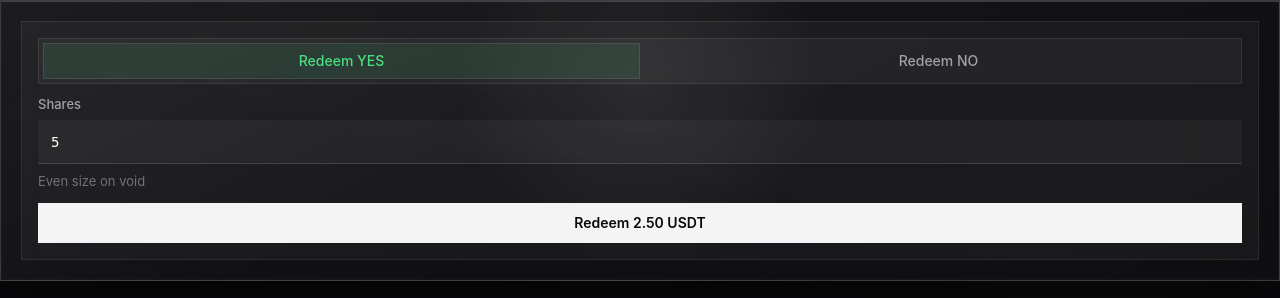
Test case: SettleDesk 作废半价退款（VoidClaim） › 切换 YES/NO 时将金额重置为新一侧的平额
Check: the button "Redeem 2.50 USDT" is enabled, box x1=38 y1=203 x2=1242 y2=243
Replace the text in the field with "4" at (640, 142), box x1=38 y1=120 x2=1242 y2=164
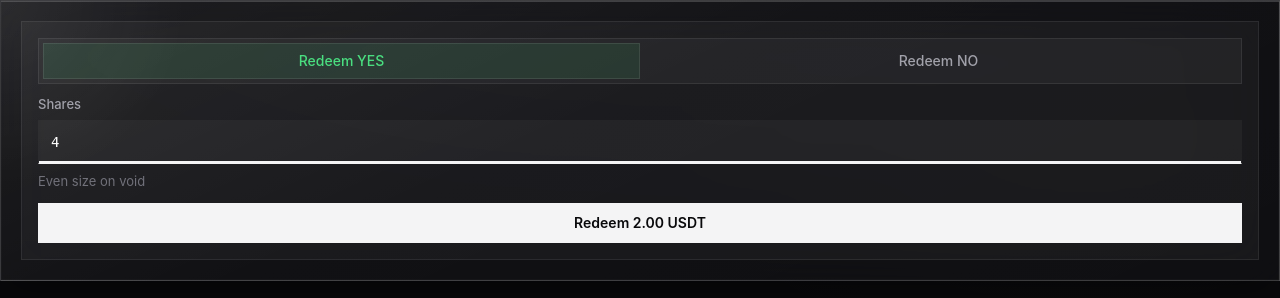
Click the button "Redeem YES" at (342, 61), box x1=43 y1=43 x2=640 y2=79
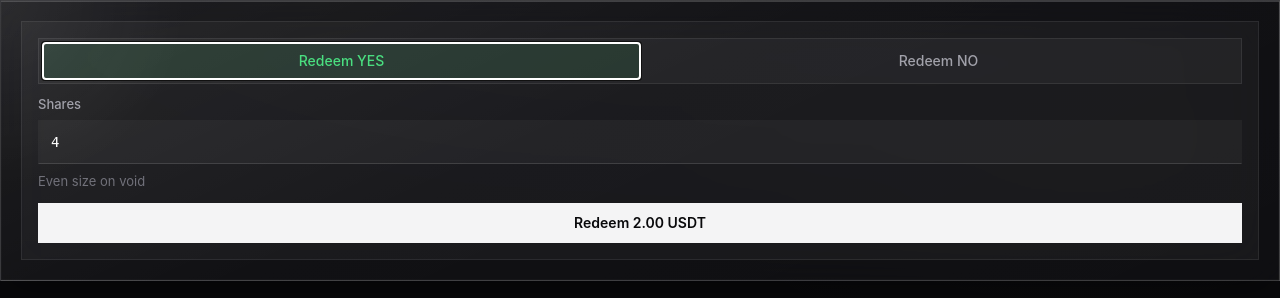
Click the button "Redeem NO" at (938, 61), box x1=640 y1=43 x2=1237 y2=79
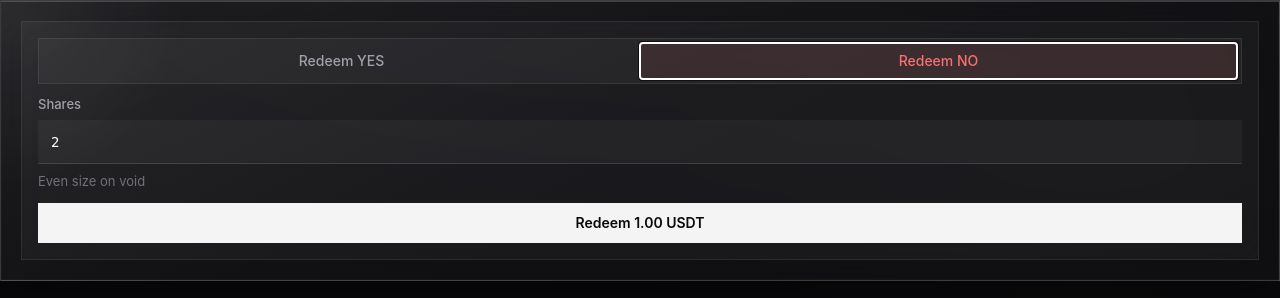
Check: the button "Redeem 1.00 USDT" is enabled, box x1=38 y1=203 x2=1242 y2=243
Check: the field holds "2", box x1=38 y1=120 x2=1242 y2=164
Click the button "Redeem YES" at (342, 61), box x1=43 y1=43 x2=640 y2=79
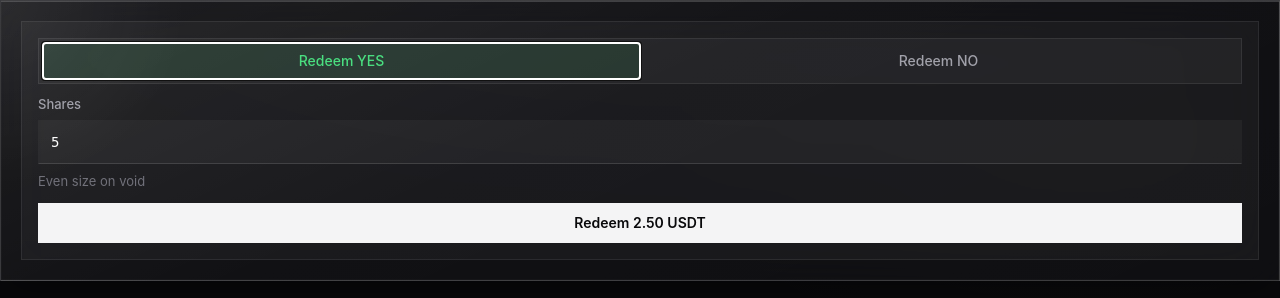
Check: the button "Redeem 2.50 USDT" is enabled, box x1=38 y1=203 x2=1242 y2=243
Check: the field holds "5", box x1=38 y1=120 x2=1242 y2=164
